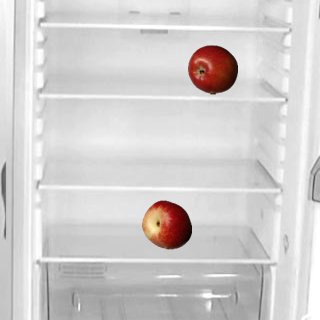Apple Braeburn: (187, 44, 237, 94)
Nectarine: (141, 199, 191, 249)
